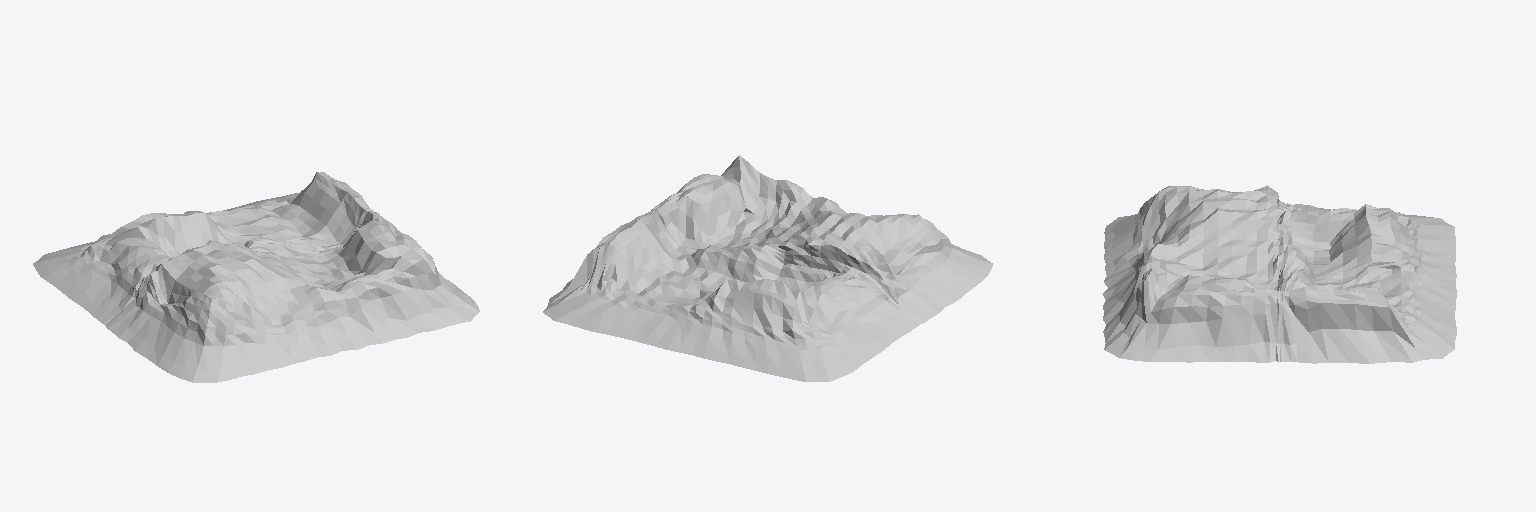
The model's file is island.obj.
3 renders of one model, left to right at view 1: azimuth 30°, elevation 25°; view 2: azimuth 150°, elevation 25°; view 3: azimuth 270°, elevation 25°, orthographic.
Visible parts, largest first — view 1: Cube; view 2: Cube; view 3: Cube.
Boxes of the visible parts, x1,y1,x2,y2 form: Cube: [33, 172, 479, 382]; Cube: [543, 155, 992, 381]; Cube: [1103, 185, 1456, 363].
Bounding box in the file's own units: 234 × 46.14 × 231.